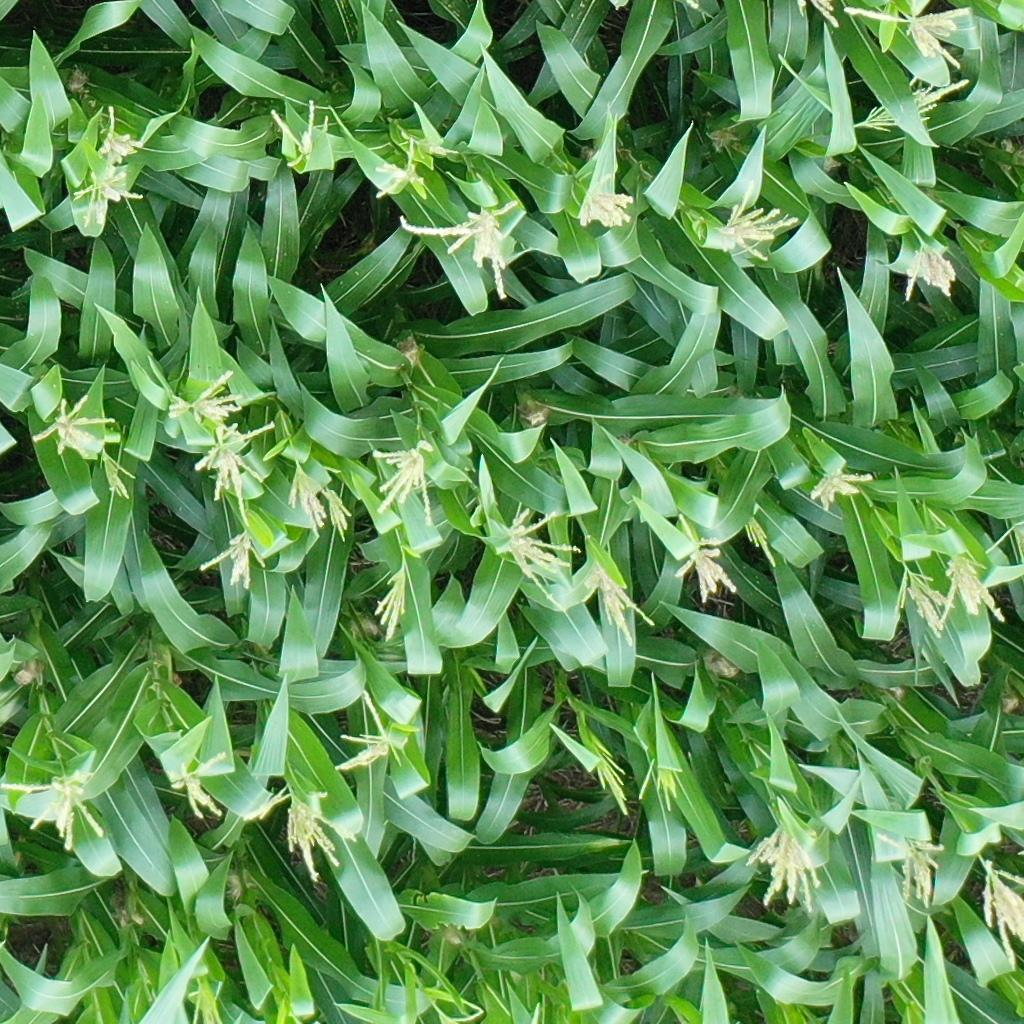Tassel: (396, 200, 529, 301), (1, 742, 112, 854), (243, 781, 361, 882), (490, 501, 581, 608), (193, 417, 277, 529), (740, 816, 828, 913), (846, 1, 972, 66), (859, 70, 973, 134), (579, 557, 655, 650), (714, 180, 800, 262), (329, 690, 411, 776), (934, 542, 1009, 630), (370, 441, 441, 530), (877, 826, 948, 908), (28, 393, 115, 457), (167, 365, 258, 424), (265, 94, 335, 170), (163, 749, 234, 821), (980, 856, 1024, 971), (669, 532, 739, 602), (897, 232, 959, 304), (890, 563, 952, 635), (68, 170, 143, 229), (197, 532, 268, 591), (371, 134, 429, 203), (572, 175, 635, 233), (287, 465, 332, 536), (809, 463, 875, 511), (588, 748, 632, 820), (88, 103, 138, 166), (375, 565, 414, 639), (636, 757, 687, 810), (746, 512, 784, 566), (99, 451, 137, 501), (187, 978, 228, 1024), (328, 485, 352, 542), (799, 1, 840, 27), (429, 133, 459, 162)
